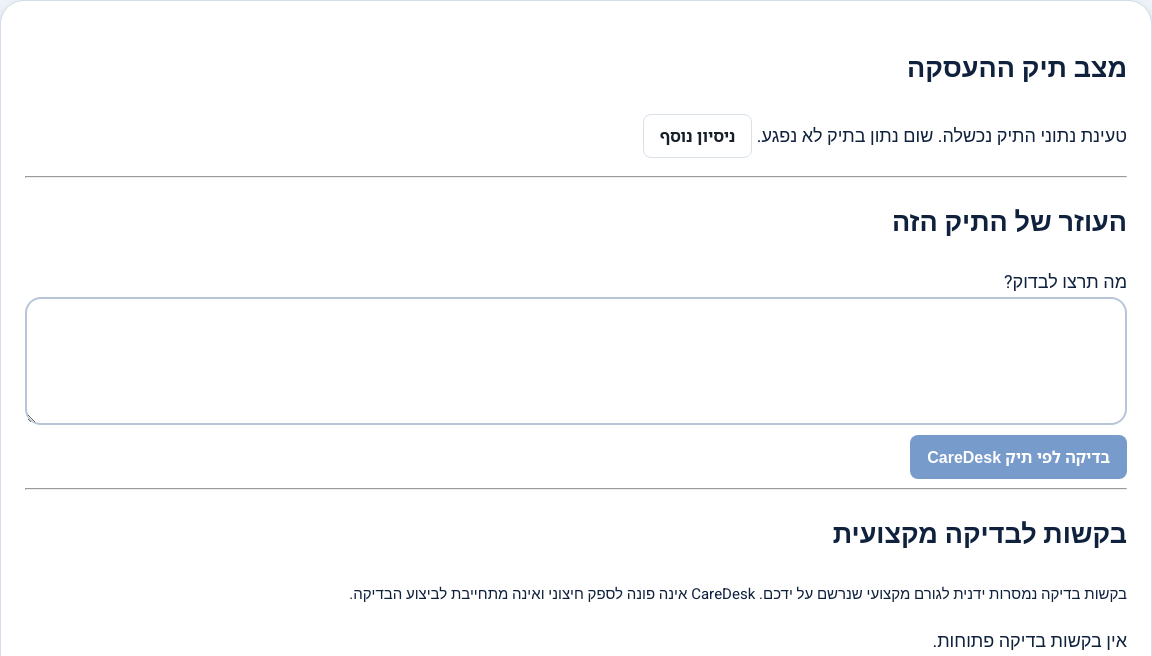
it: ProductCompletionPanel › honest failure states › shows an error and a retry that reloads the case health after a failed load
Expected: the text "טעינת נתוני התיק נכשלה. שום נתון בתיק לא נפגע." is shown, [757,123,1127,150]
Click the button "ניסיון נוסף" at (698, 136), box [643,114,752,158]
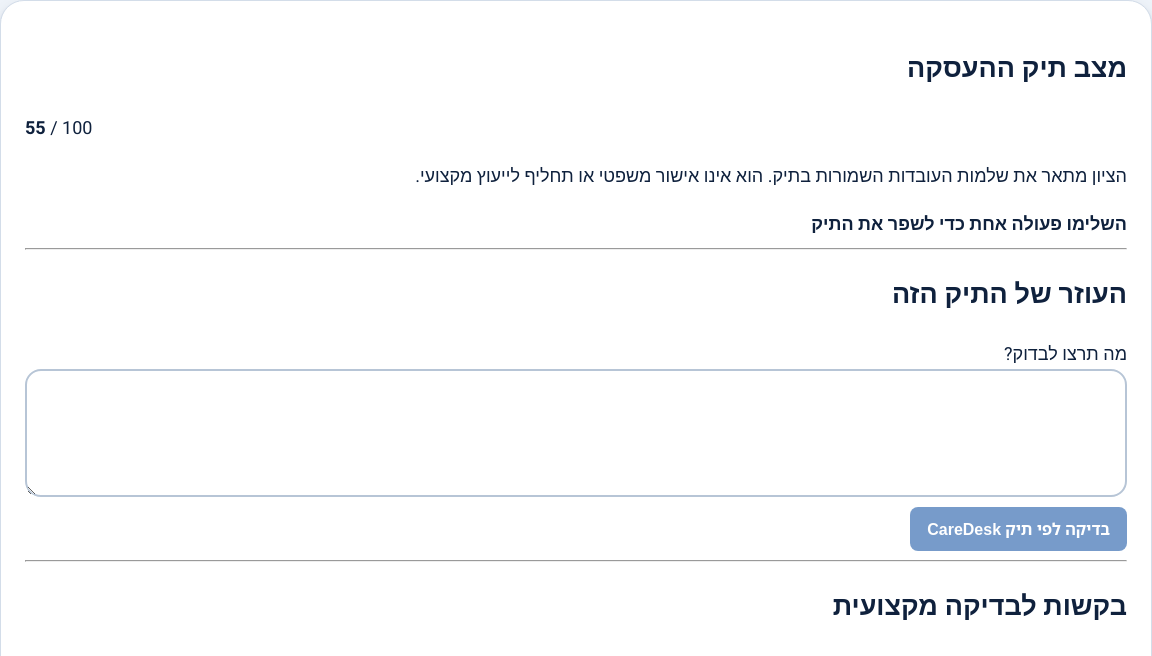
Now the text "55" is shown, box [25,115,46,142]
